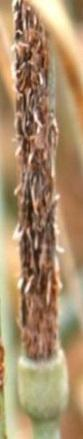Wheat: (22, 58, 51, 354), (13, 3, 43, 50)
